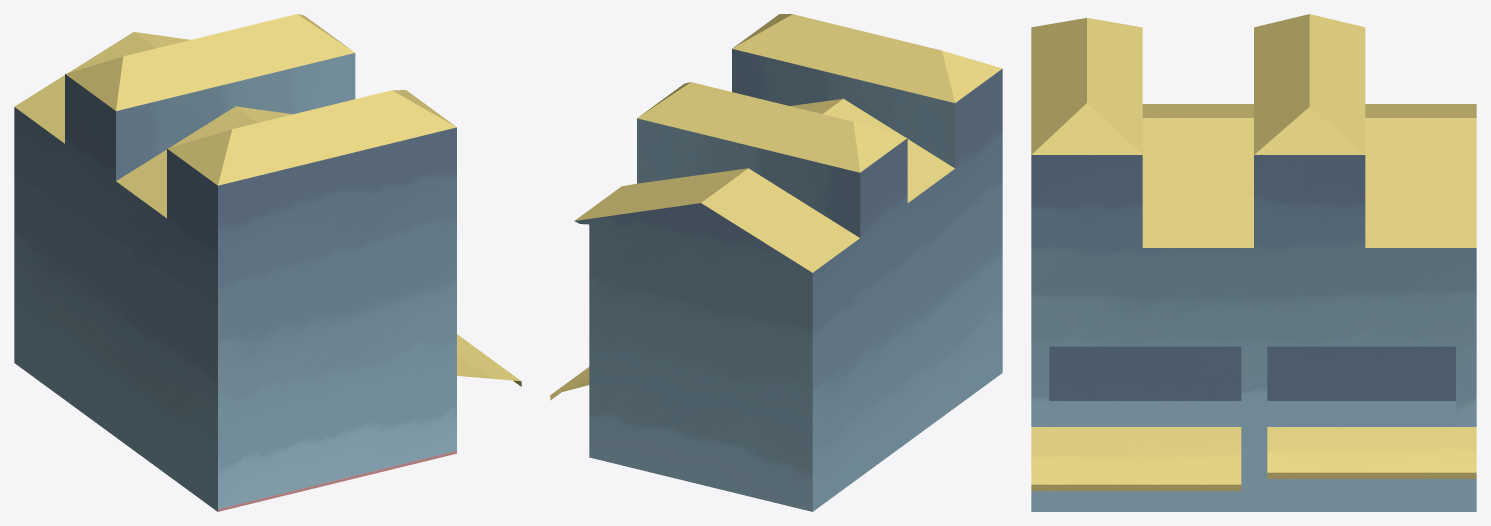
Rendered from boutiks&maisons.fbx.
The picture shows the model from 3 angles, left to right: view 1: azimuth 30°, elevation 25°; view 2: azimuth 150°, elevation 25°; view 3: azimuth 270°, elevation 25°; orthographic projection. The views are drawn at different scales.
Visible parts, largest first — view 1: boutik&maisons; view 2: boutik&maisons; view 3: boutik&maisons.
Part boxes in pixels (x1=…): boutik&maisons: x1=14, y1=14, x2=521, y2=511; boutik&maisons: x1=550, y1=14, x2=1002, y2=511; boutik&maisons: x1=1031, y1=14, x2=1476, y2=511.
Bounding box in the file's own units: 449 × 500 × 521.
